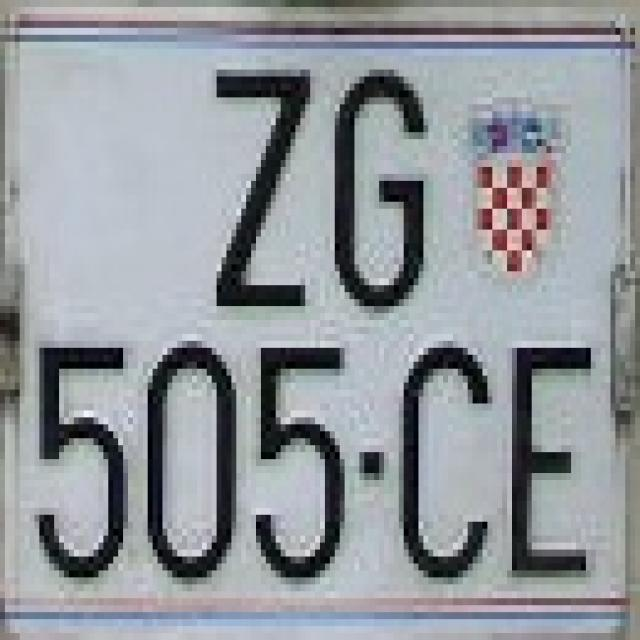0: (143, 334, 236, 570)
5: (20, 327, 133, 577), (256, 348, 345, 591)
C: (399, 327, 492, 577)
E: (512, 334, 596, 570)
G: (325, 56, 438, 306)
Z: (197, 56, 310, 306)
